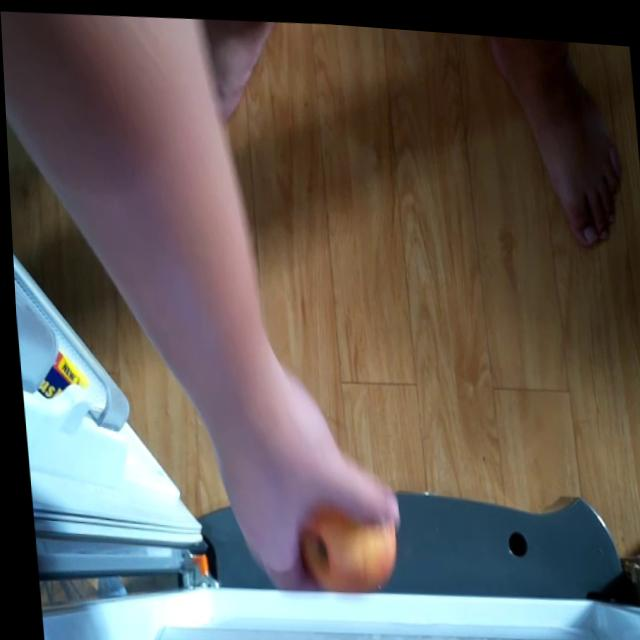apple: (288, 492, 393, 588)
